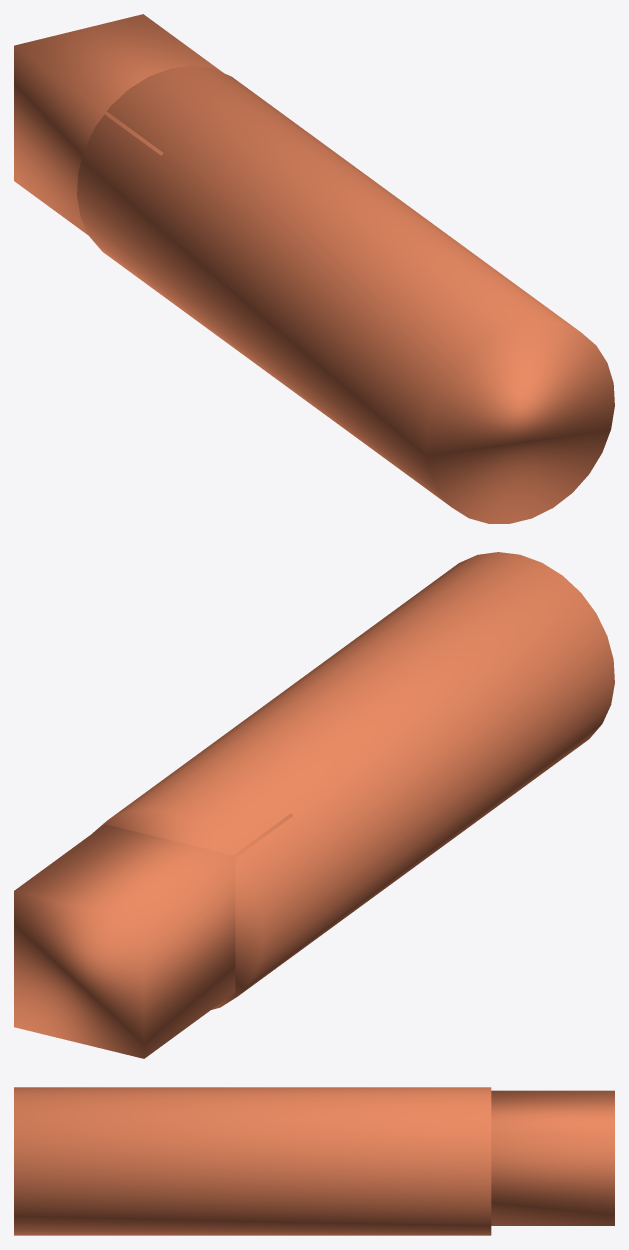
Rendered from rollo.glb.
3 renders of one model, top to bottom at view 1: azimuth 30°, elevation 25°; view 2: azimuth 150°, elevation 25°; view 3: azimuth 270°, elevation 25°, orthographic. The views are drawn at different scales.
Parts seen in each view (by area): view 1: Cylinder, Cube; view 2: Cylinder, Cube; view 3: Cylinder, Cube.
Part boxes in pixels (left/top/right/bottom): Cylinder: left=77, top=65, right=614, bottom=523; Cube: left=14, top=14, right=223, bottom=235; Cylinder: left=93, top=552, right=614, bottom=1009; Cube: left=14, top=813, right=292, bottom=1058; Cylinder: left=14, top=1087, right=491, bottom=1235; Cube: left=491, top=1090, right=614, bottom=1225.
Bounding box in the file's own units: 2 × 1.99 × 8.07.
